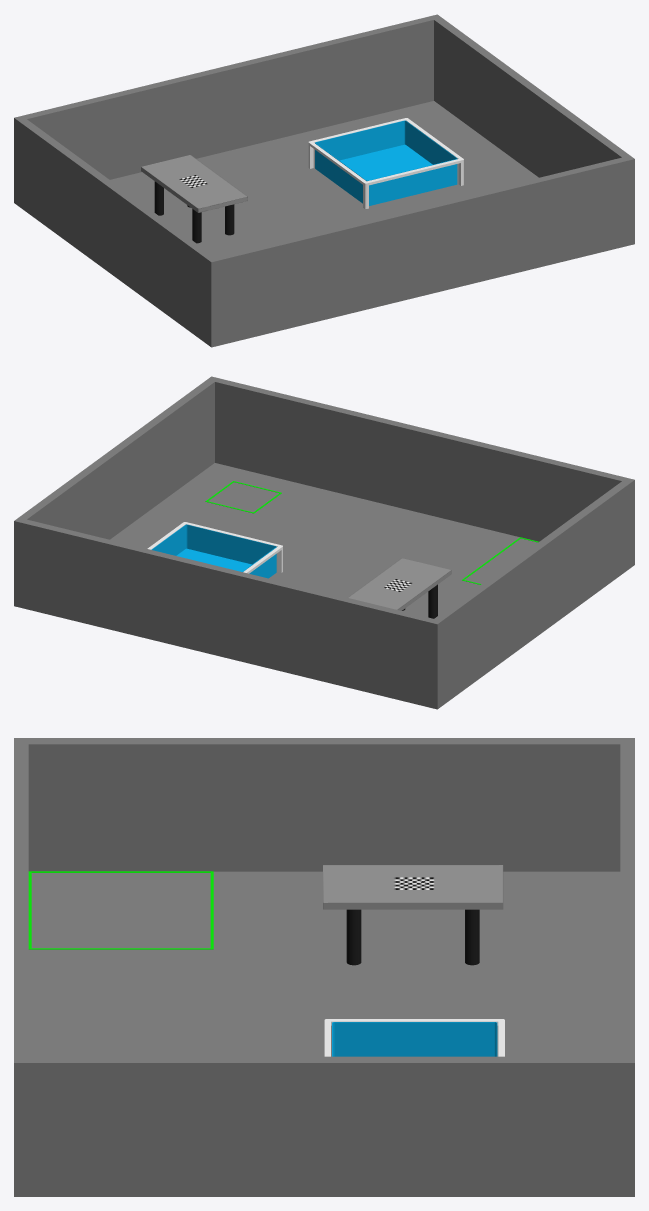
Rendered from challenge_2.dae.
The picture shows the model from 3 angles, top to bottom: view 1: azimuth 30°, elevation 25°; view 2: azimuth 150°, elevation 25°; view 3: azimuth 270°, elevation 25°; orthographic projection. The views are drawn at different scales.
Parts seen in each view (by area): view 1: Challenge_2_Simulation_World.001; view 2: Challenge_2_Simulation_World.001; view 3: Challenge_2_Simulation_World.001.
Boxes of the visible parts, x1,y1,x2,y2 form: Challenge_2_Simulation_World.001: (14, 14, 634, 347); Challenge_2_Simulation_World.001: (14, 376, 634, 709); Challenge_2_Simulation_World.001: (14, 738, 634, 1196).
Size of the model in its own units: 5.2 by 4.2 by 1.
Materials: 7 (7 with a texture image).
